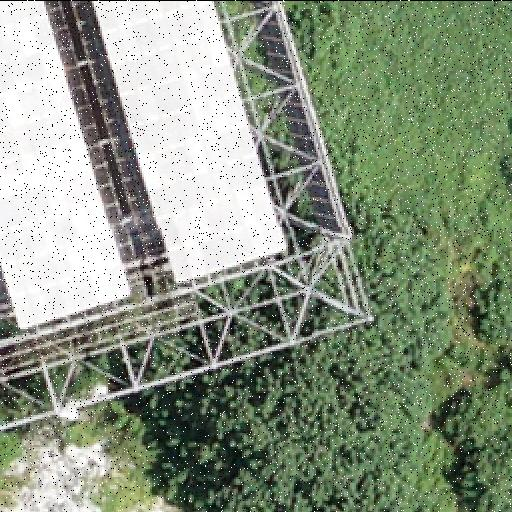solar-panel: (91, 0, 285, 284), (0, 0, 132, 328)
